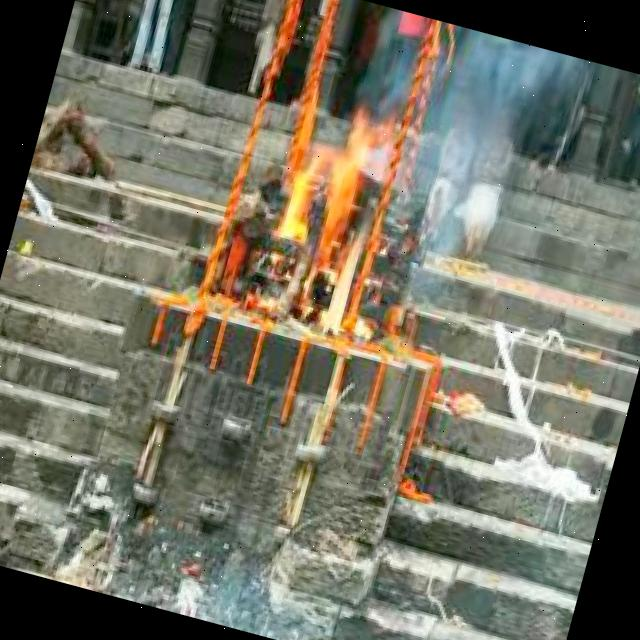fire: (253, 106, 402, 340)
